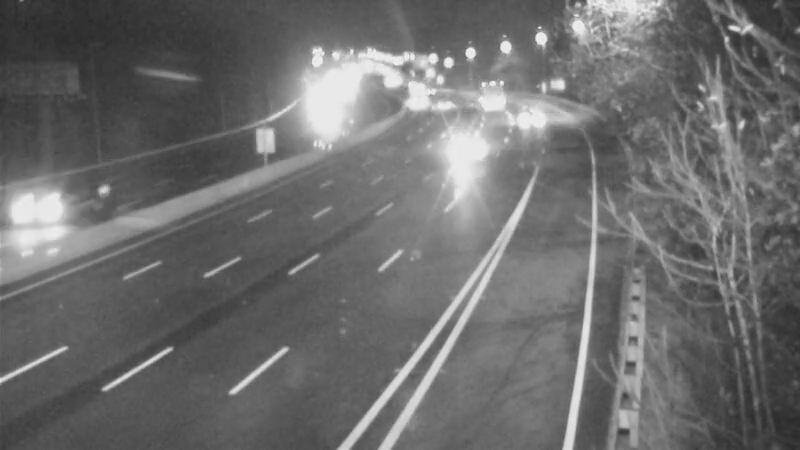vehicle: (428, 111, 508, 191), (1, 174, 81, 254), (465, 75, 515, 125), (417, 81, 467, 131), (387, 76, 437, 126), (510, 107, 560, 157), (298, 92, 348, 142)
